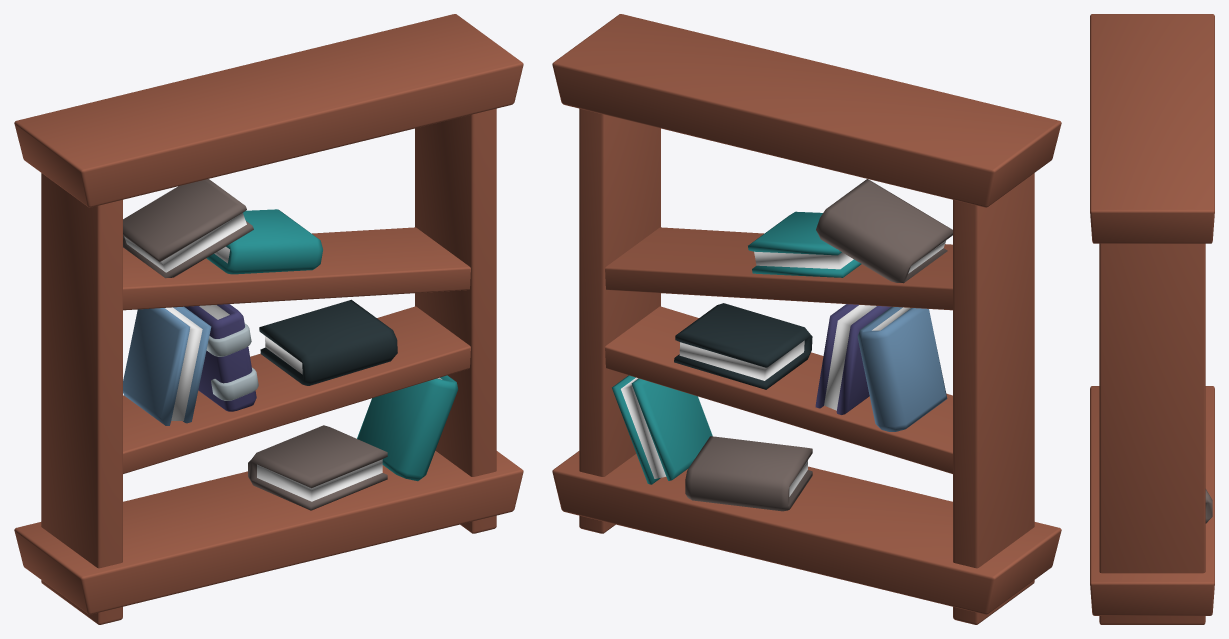
Rendered from bookcaseWideFilled_broken.glb.
3 views of the same model, side by side, from view 1: azimuth 30°, elevation 25°; view 2: azimuth 150°, elevation 25°; view 3: azimuth 270°, elevation 25° (orthographic). The views are drawn at different scales.
Visible parts, largest first — view 1: bookcaseWideFilled_broken; view 2: bookcaseWideFilled_broken; view 3: bookcaseWideFilled_broken.
Boxes of the visible parts, box(x1,y1,x2,y2) form: bookcaseWideFilled_broken: box(14, 14, 523, 624); bookcaseWideFilled_broken: box(552, 14, 1061, 624); bookcaseWideFilled_broken: box(1090, 14, 1214, 624).
Size of the model in its own units: 0.3491 by 0.3503 by 0.0933.
